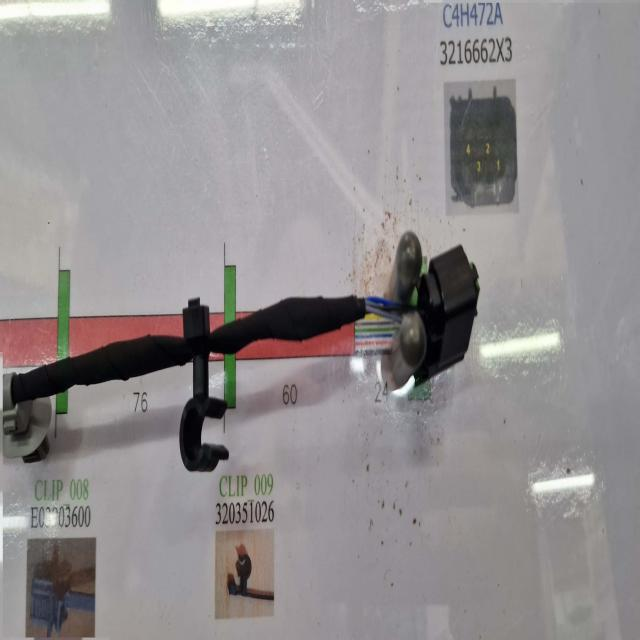Clip: (180, 294, 231, 476), (4, 375, 53, 464)
Connector: (411, 245, 480, 394)
Gape: (356, 265, 430, 359)
MHEV_N11_Cable: (11, 335, 192, 411), (206, 290, 371, 355)
